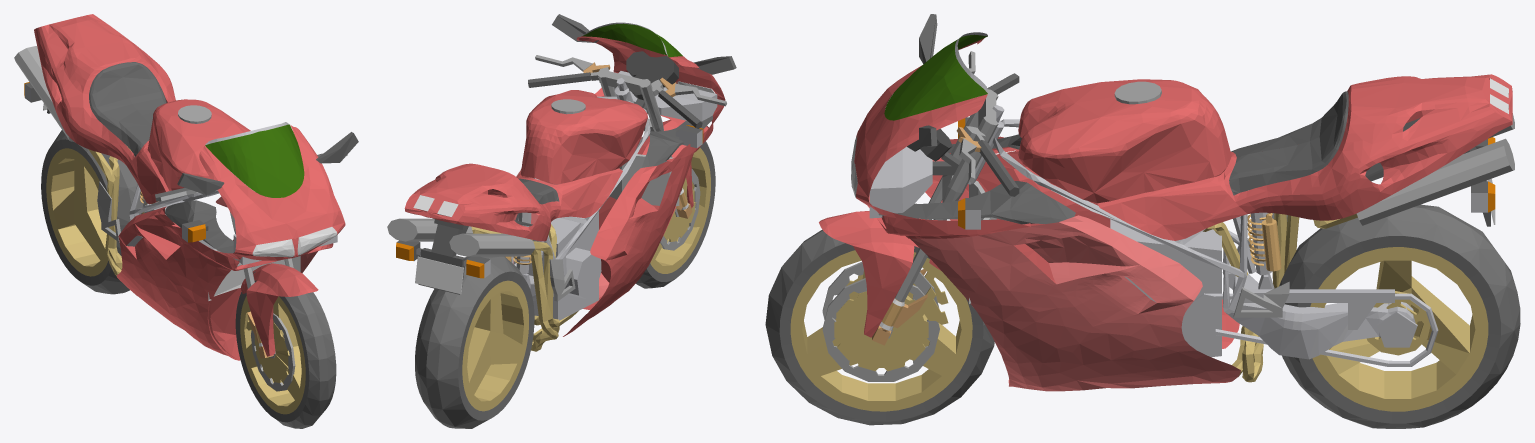
File: FUC916.fbx
The picture shows the model from 3 angles, left to right: view 1: azimuth 30°, elevation 25°; view 2: azimuth 150°, elevation 25°; view 3: azimuth 270°, elevation 25°; orthographic projection. The views are drawn at different scales.
Parts seen in each view (by area): view 1: carrd, carrd03, carrd02, ducgb, duce01, ducw, ducgls03, carrd01, ducw01, duce, carrd05, carrd04 (+8 smaller); view 2: ducw01, carrd, carrd01, carrd03, duce01, ducgb, duccro, ducmo, carrd02, ducm5, ductbl, duce (+14 smaller); view 3: carrd03, carrd, carrd01, ducgb, ducw01, duce01, duce, ducw, carrd02, ducex, duccro, carrd05 (+15 smaller).
Boxes of the visible parts, x1,y1,x2,y2 form: carrd: (34, 14, 175, 204); carrd03: (116, 196, 317, 359); carrd02: (171, 125, 345, 270); ducgb: (25, 62, 358, 260); duce01: (46, 148, 108, 276); ducw: (235, 271, 336, 428); ducgls03: (205, 124, 304, 197); carrd01: (147, 99, 250, 190); ducw01: (41, 130, 143, 294); duce: (240, 296, 305, 414); carrd05: (241, 263, 318, 356); carrd04: (207, 249, 300, 360); ducw01: (415, 256, 534, 428); carrd: (404, 163, 622, 241); carrd01: (521, 90, 647, 184); carrd03: (513, 153, 693, 336); duce01: (462, 280, 528, 411); ducgb: (396, 14, 736, 294); duccro: (387, 16, 733, 256); ducmo: (527, 211, 601, 320); carrd02: (576, 36, 725, 161); ducm5: (535, 55, 726, 191); ductbl: (471, 224, 578, 351); duce: (650, 147, 710, 273); carrd03: (910, 151, 1240, 391); carrd: (1097, 74, 1512, 240); carrd01: (1018, 79, 1231, 203); ducgb: (878, 14, 1490, 366); ducw01: (1279, 204, 1520, 428); duce01: (1310, 247, 1488, 411); duce: (790, 250, 972, 411); ducw: (765, 229, 994, 425); carrd02: (854, 38, 1030, 238); ducex: (1226, 272, 1415, 359); duccro: (931, 16, 1514, 225); carrd05: (819, 211, 940, 337).
Size of the model in its own units: 296 by 417 by 749.
